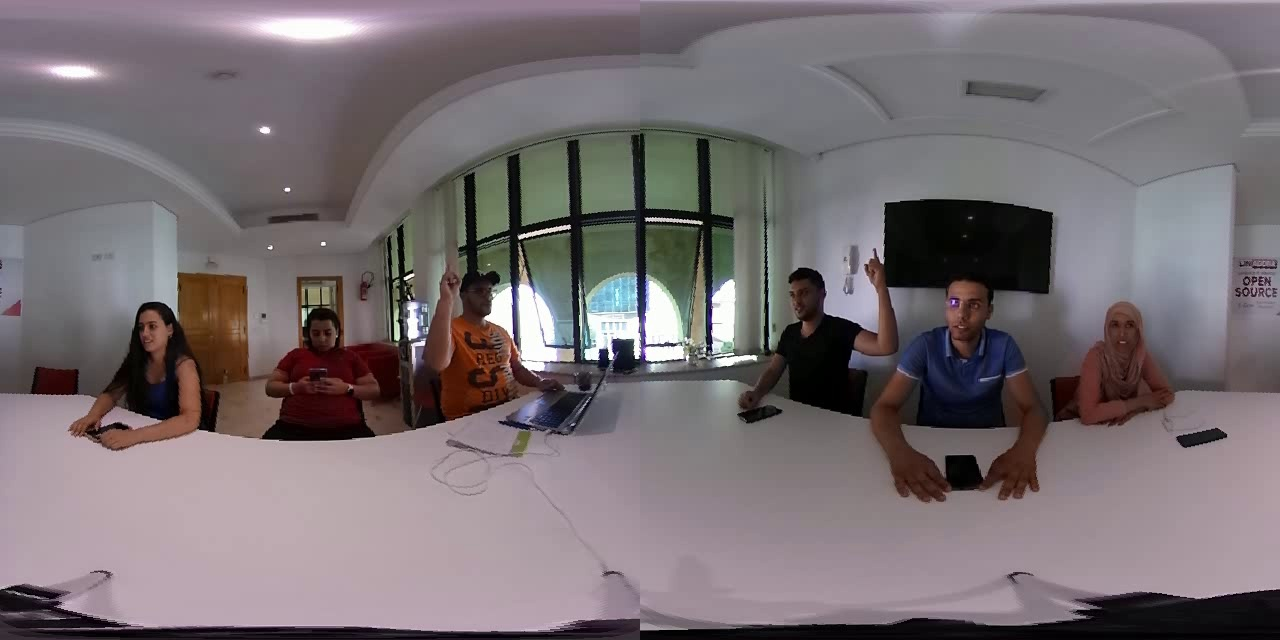hand_up: (849, 245, 906, 367), (419, 255, 462, 384)
person: (903, 268, 1066, 519), (732, 243, 904, 431), (419, 260, 570, 426), (67, 295, 206, 460), (258, 300, 385, 445), (1070, 294, 1185, 441)
